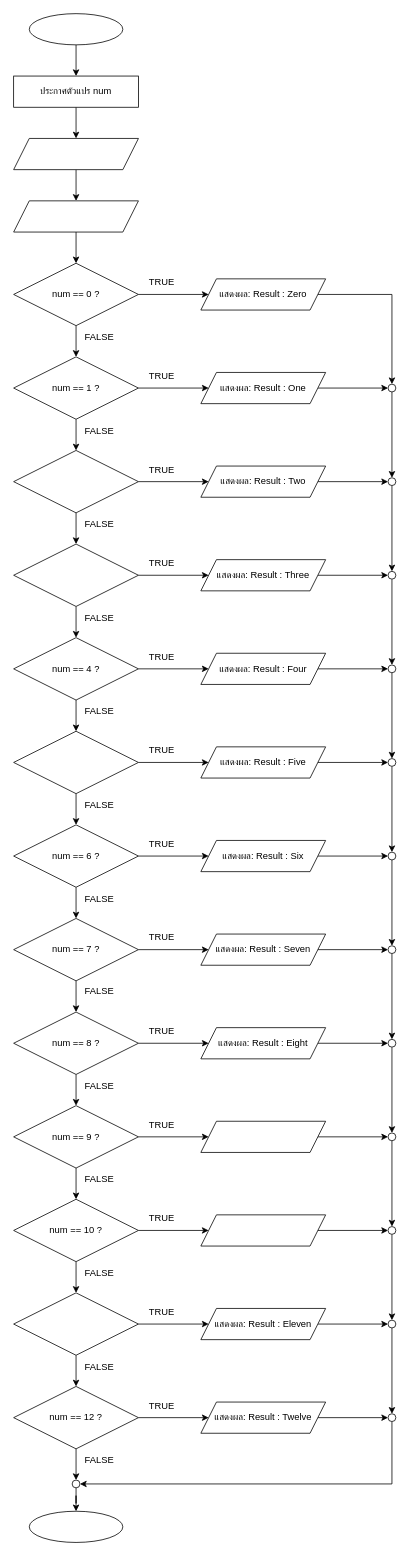
Image size: 412x1556. Some labels were removed from this diagram. The shapes that lost their labels are listed below. From the top down, each one's centre as x and y in pixels, then its label:
At [75,29]: "Start".
At [75,154]: "แสดงผล: User Input :".
At [75,216]: "รับค่า: num".
At [75,481]: "num == 2 ?".
At [75,574]: "num == 3 ?".
At [75,762]: "num == 5 ?".
At [263,1136]: "แสดงผล: Result : Nine".
At [263,1230]: "แสดงผล: Result : Ten".
At [75,1323]: "num == 11 ?".
At [75,1526]: "Stop".
